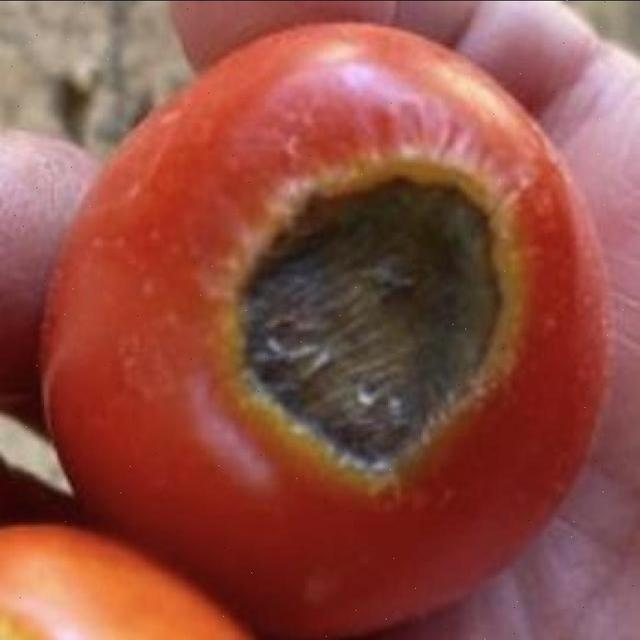Blossom End Rot Fruit: (147, 94, 351, 336)
